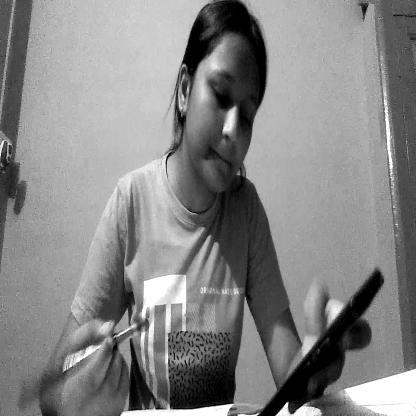Distracted: (176, 1, 274, 209)
